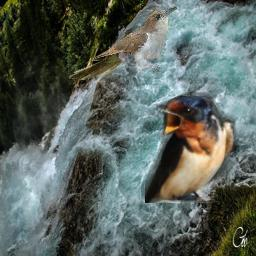Cuckoo: (68, 6, 177, 80)
Swallow: (145, 92, 236, 203)
